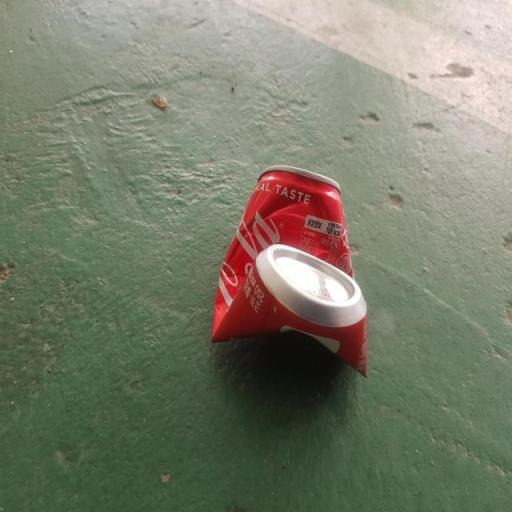metal: (193, 143, 385, 415)
